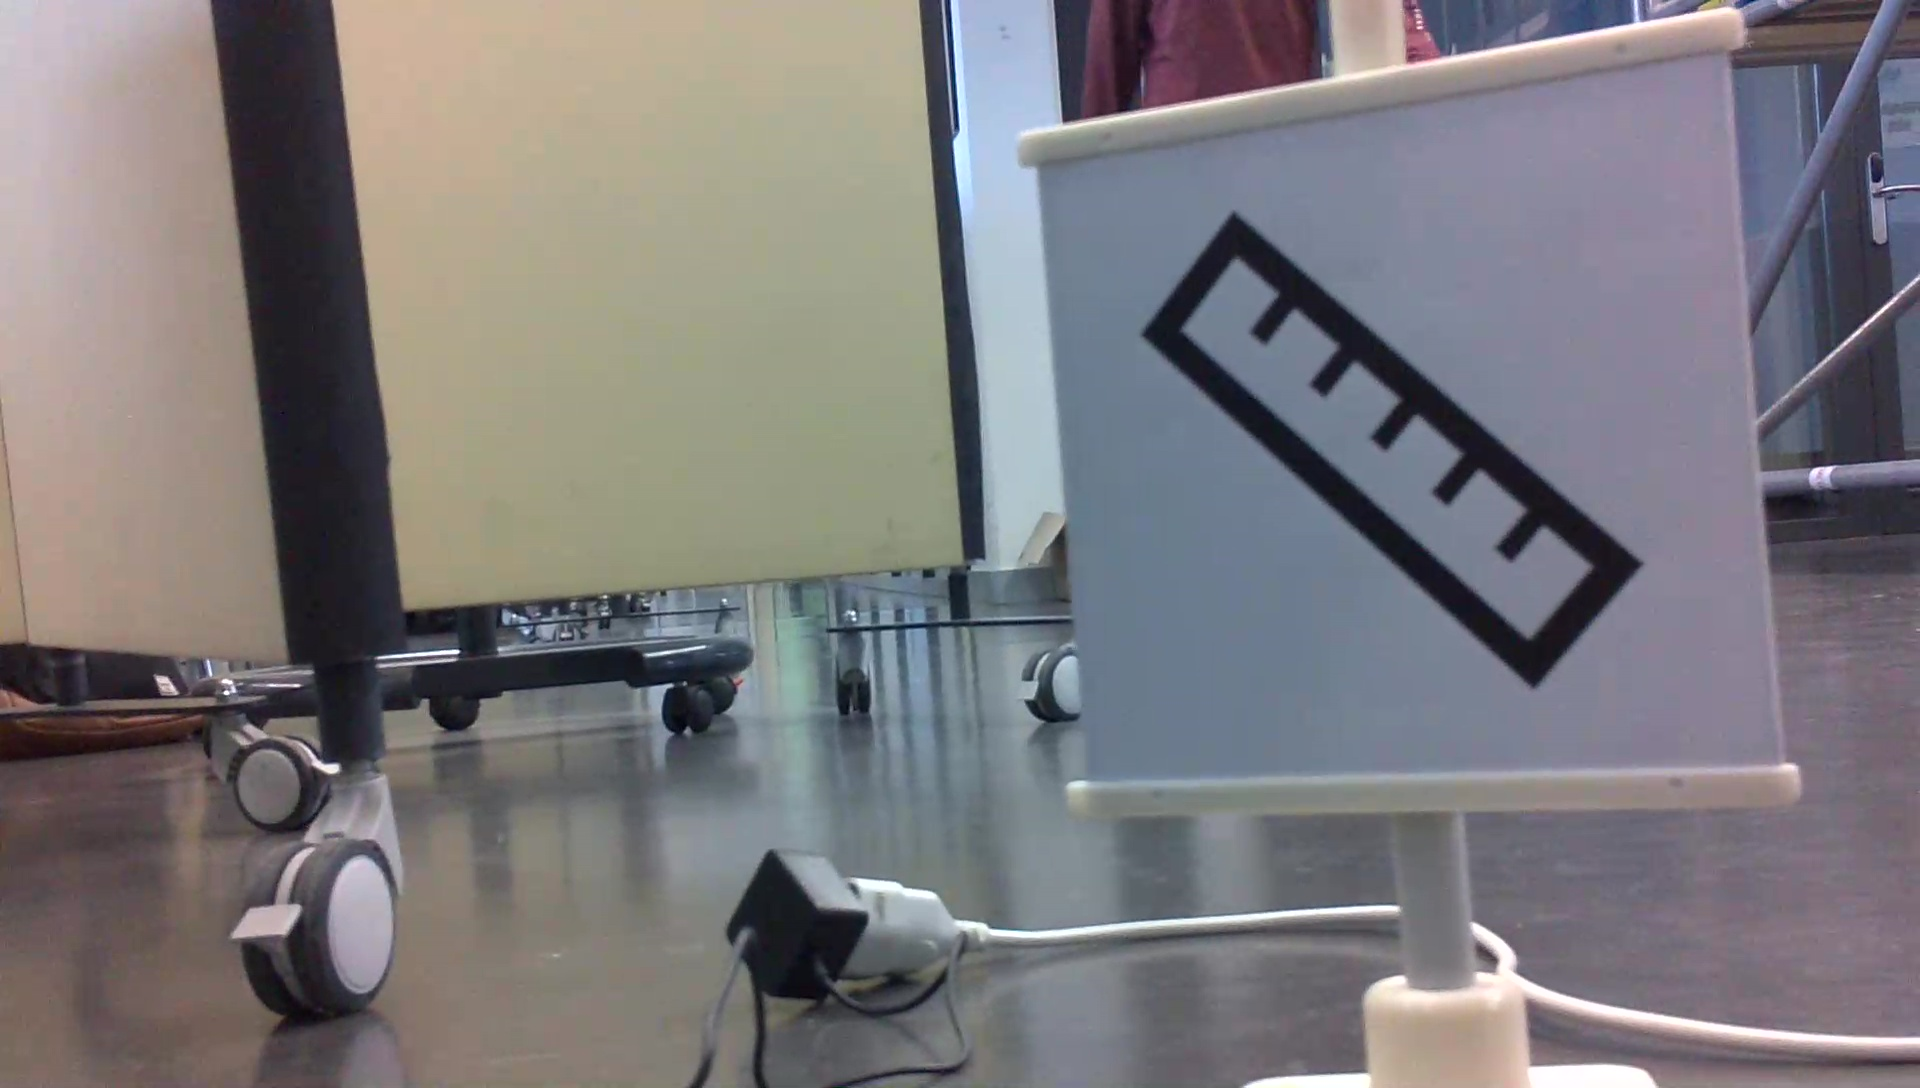ruler: (1135, 204, 1642, 699)
